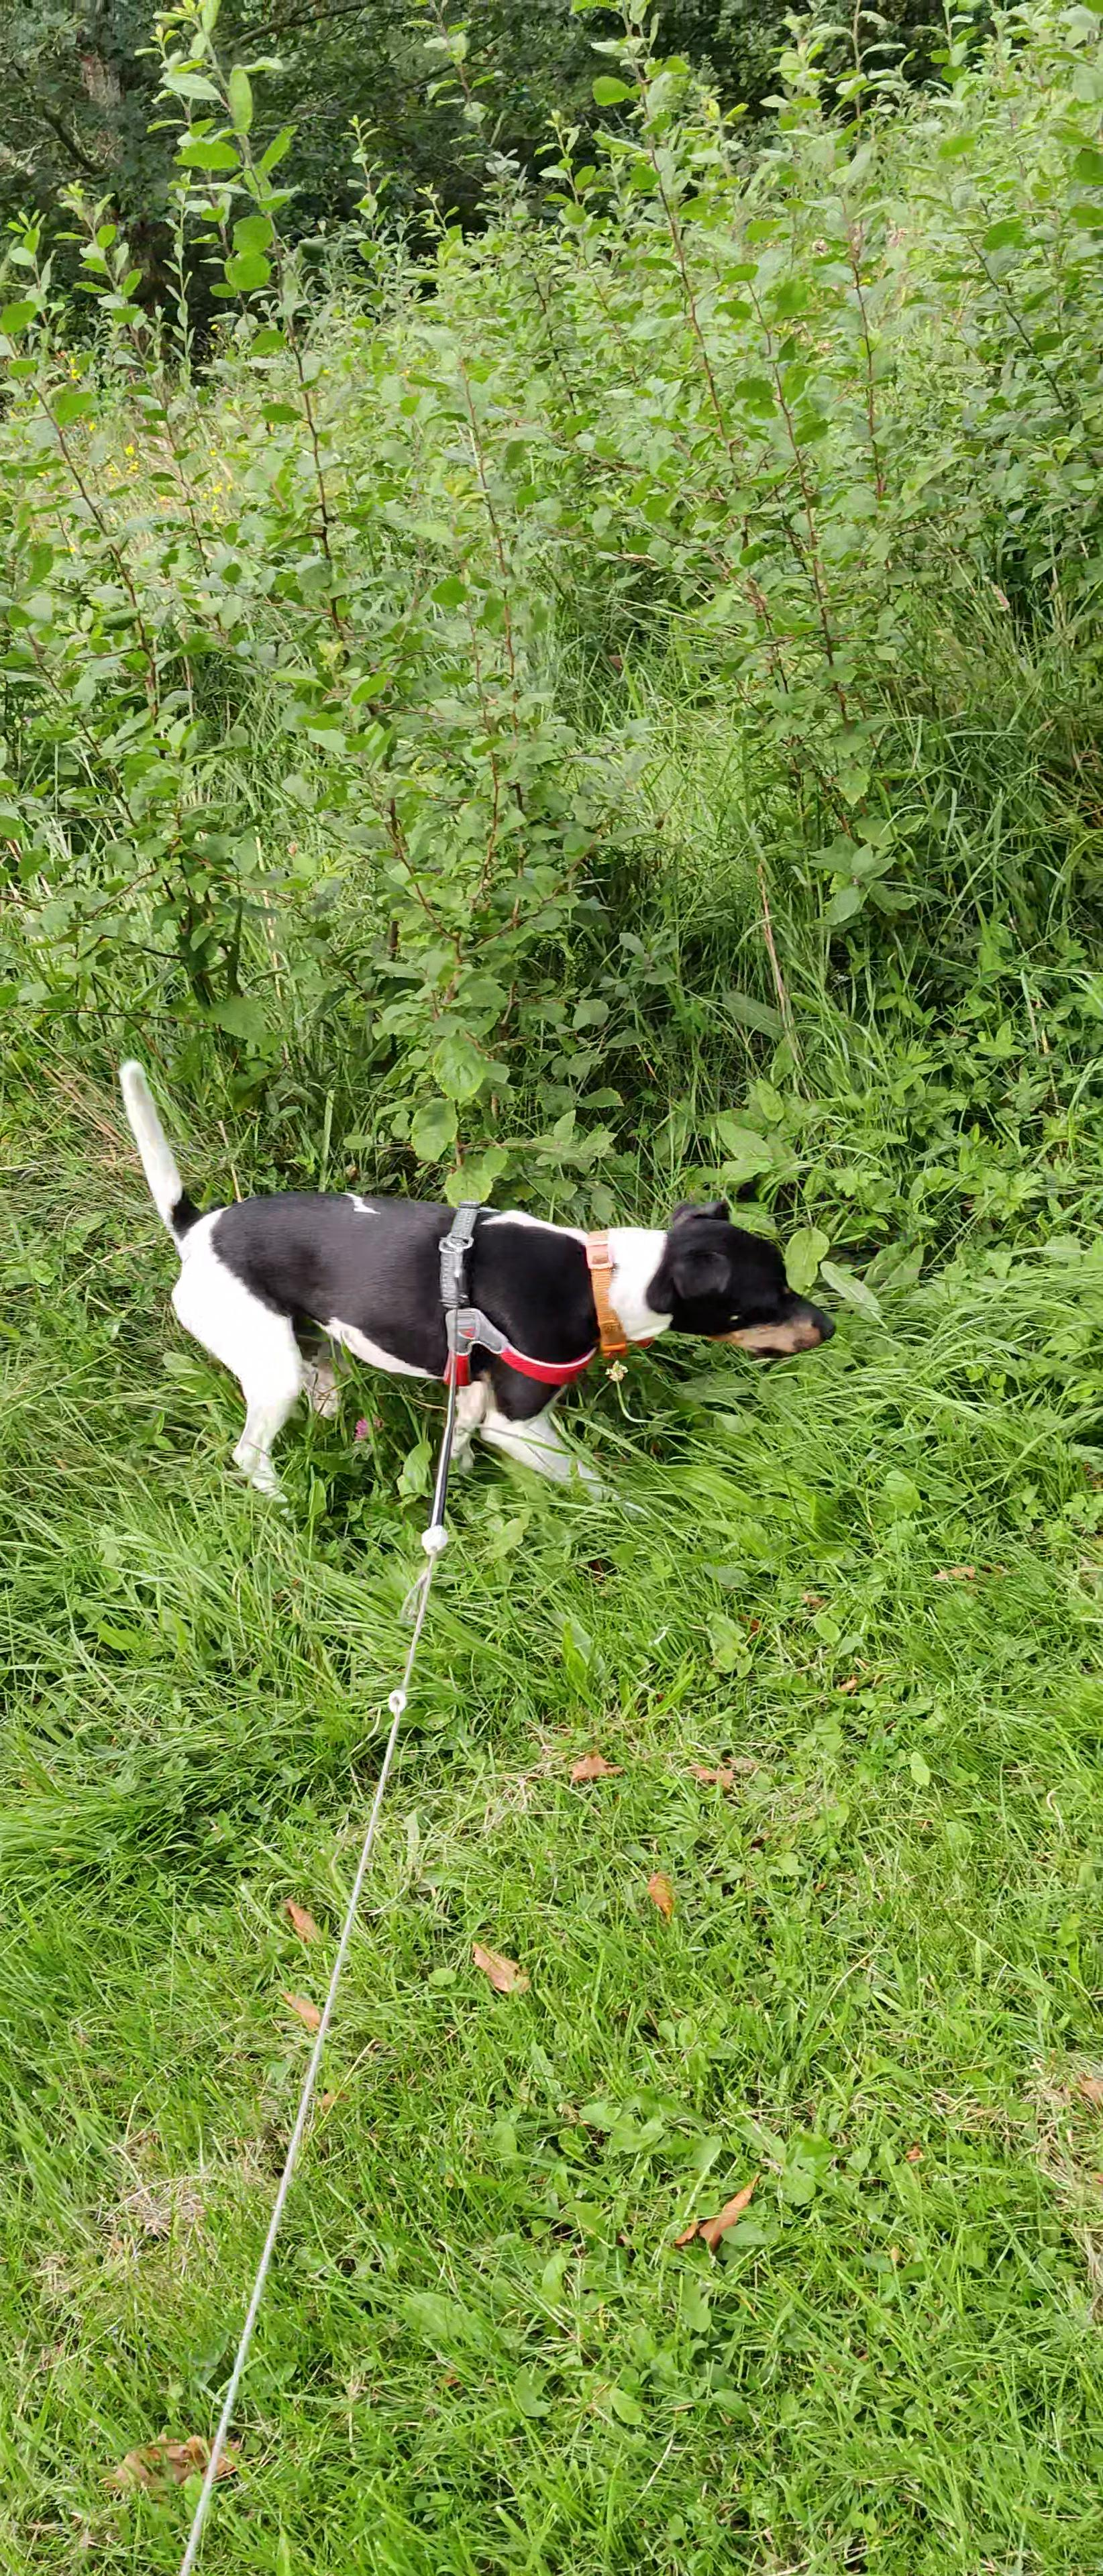Dog: (117, 1048, 840, 1508)
